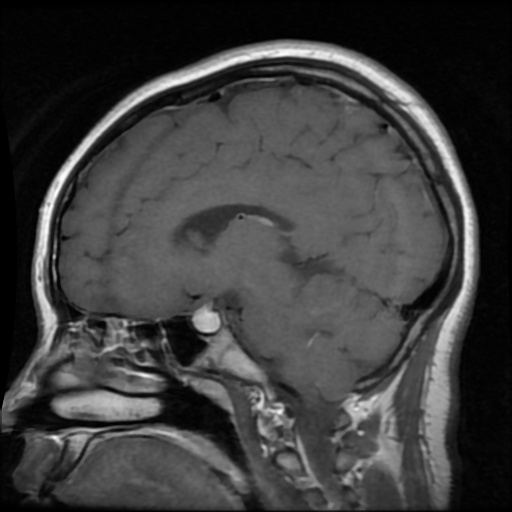pituitary: (192, 305, 220, 333)
